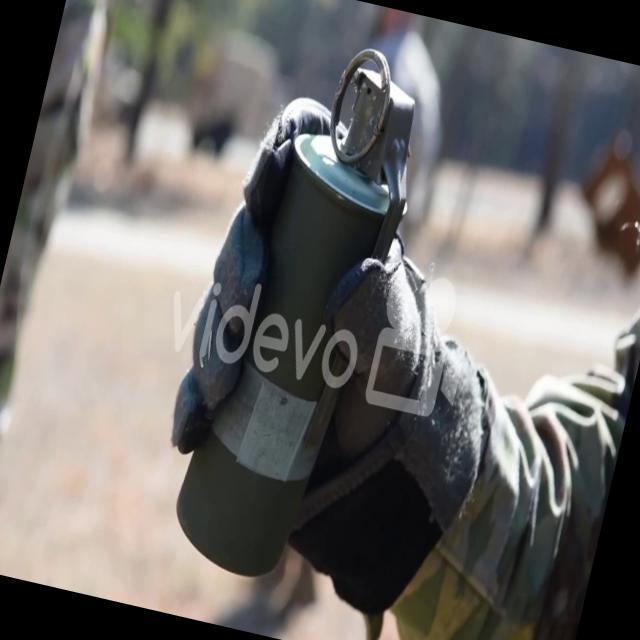grenade: (156, 18, 439, 596)
